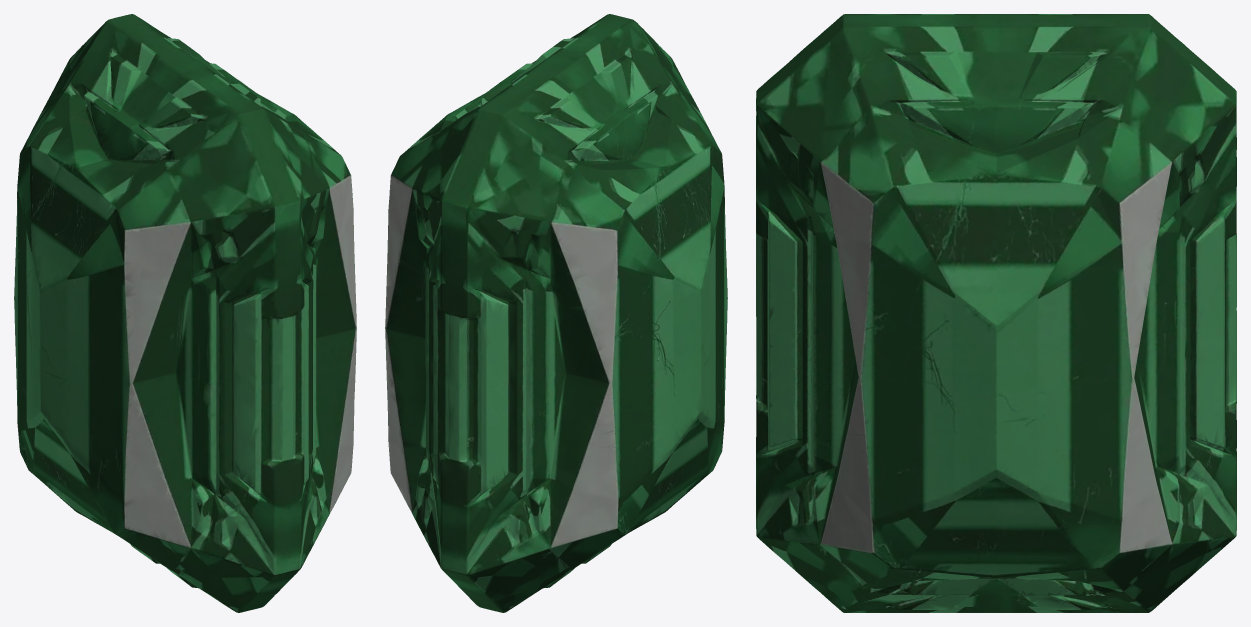
File: gem.glb
The picture shows the model from 3 angles, left to right: view 1: azimuth 30°, elevation 25°; view 2: azimuth 150°, elevation 25°; view 3: azimuth 270°, elevation 25°; orthographic projection. The views are drawn at different scales.
Parts seen in each view (by area): view 1: tripo_node_5e030073-831f-4cd5-81b1-9a614d6d17be; view 2: tripo_node_5e030073-831f-4cd5-81b1-9a614d6d17be; view 3: tripo_node_5e030073-831f-4cd5-81b1-9a614d6d17be.
Boxes of the visible parts, x1,y1,x2,y2 form: tripo_node_5e030073-831f-4cd5-81b1-9a614d6d17be: (14, 14, 356, 612); tripo_node_5e030073-831f-4cd5-81b1-9a614d6d17be: (385, 14, 727, 612); tripo_node_5e030073-831f-4cd5-81b1-9a614d6d17be: (756, 14, 1236, 612).
Size of the model in its own units: 0.6083 by 1 by 0.7446.
1 material, 1 textured.
